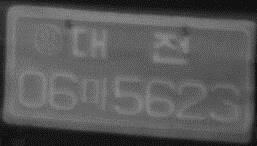0: (15, 69, 47, 107)
2: (176, 78, 209, 121)
3: (209, 82, 243, 124)
5: (112, 73, 144, 116)
6: (144, 76, 175, 119), (48, 70, 79, 110)
대전_D: (68, 24, 190, 67)
마: (81, 74, 110, 112)
영: (33, 23, 65, 57)
